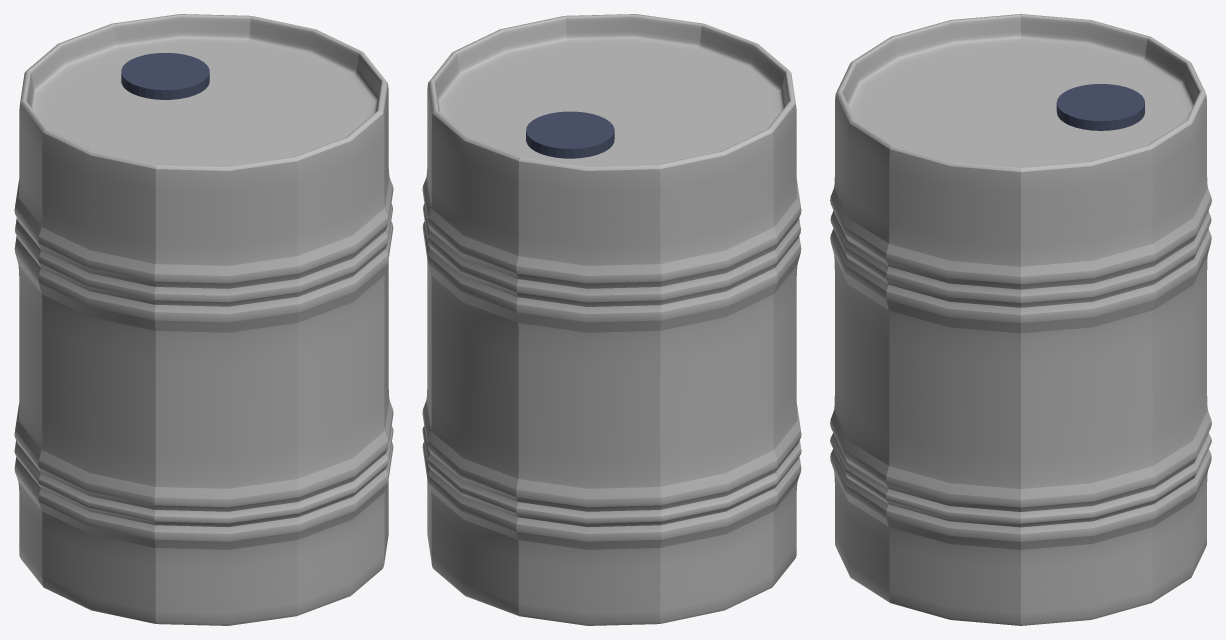
The model's file is blue_barrel.fbx.
The picture shows the model from 3 angles, left to right: view 1: azimuth 30°, elevation 25°; view 2: azimuth 150°, elevation 25°; view 3: azimuth 270°, elevation 25°; orthographic projection.
Parts seen in each view (by area): view 1: blue_barrel; view 2: blue_barrel; view 3: blue_barrel.
Boxes of the visible parts, left/top/right/bottom form: blue_barrel: left=14, top=14, right=393, bottom=625; blue_barrel: left=422, top=14, right=801, bottom=625; blue_barrel: left=830, top=14, right=1211, bottom=625.
Bounding box in the file's own units: 73.68 × 97.4 × 73.68.
